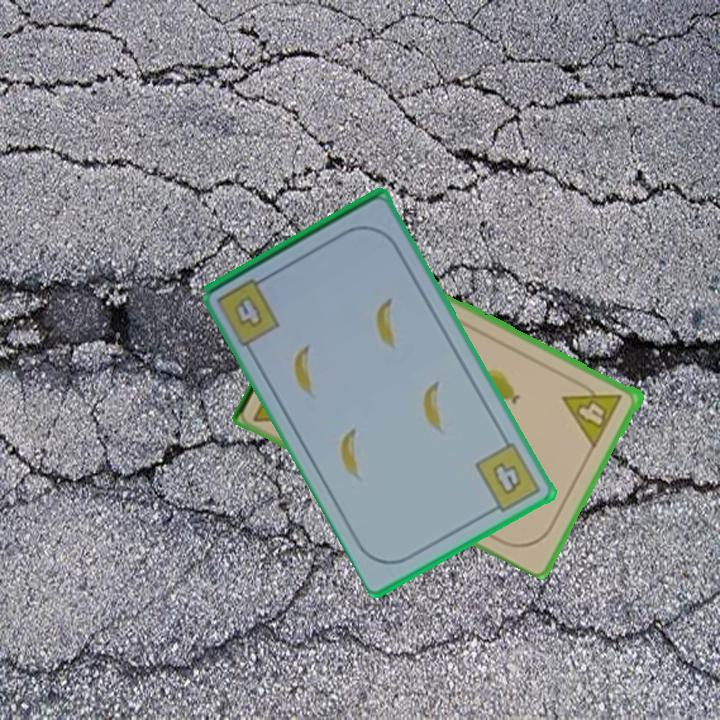4b: (471, 439, 544, 518), (234, 296, 264, 327)
4p: (560, 375, 626, 449)
